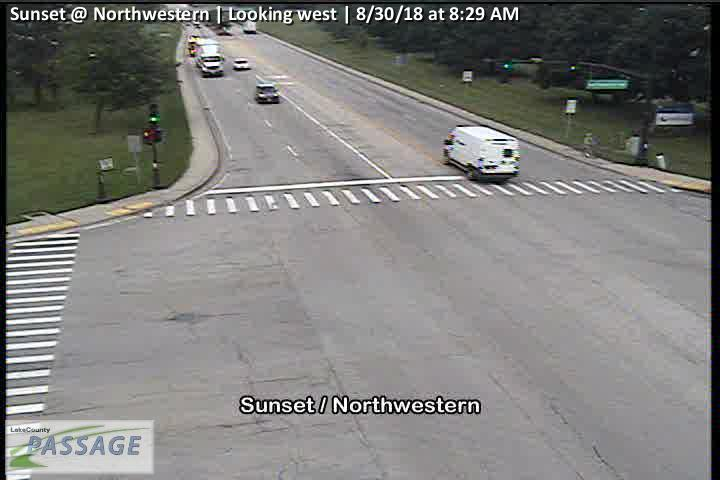Sedan: (255, 83, 280, 104), (231, 57, 249, 70)
Truck: (439, 123, 520, 179), (193, 37, 225, 77)
